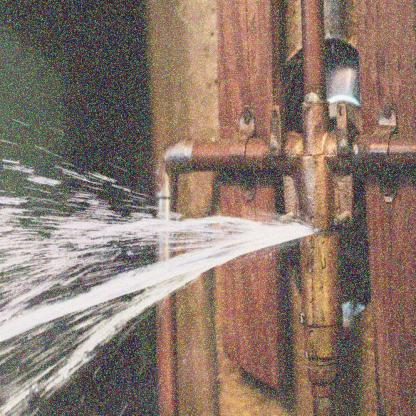burst: (273, 203, 336, 258)
